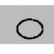no answer: (13, 18, 47, 42)
